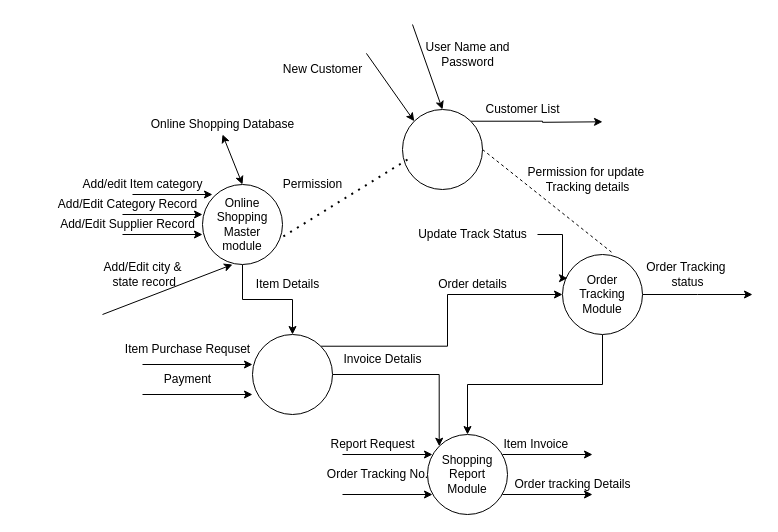
This 778x532 diagram has some shape labels left out. The centre of each missing label's shape, as x and y in pixels:
"Customer & Security Management module" goes at point 442,149.
"Order Processing Module" goes at point 292,374.
